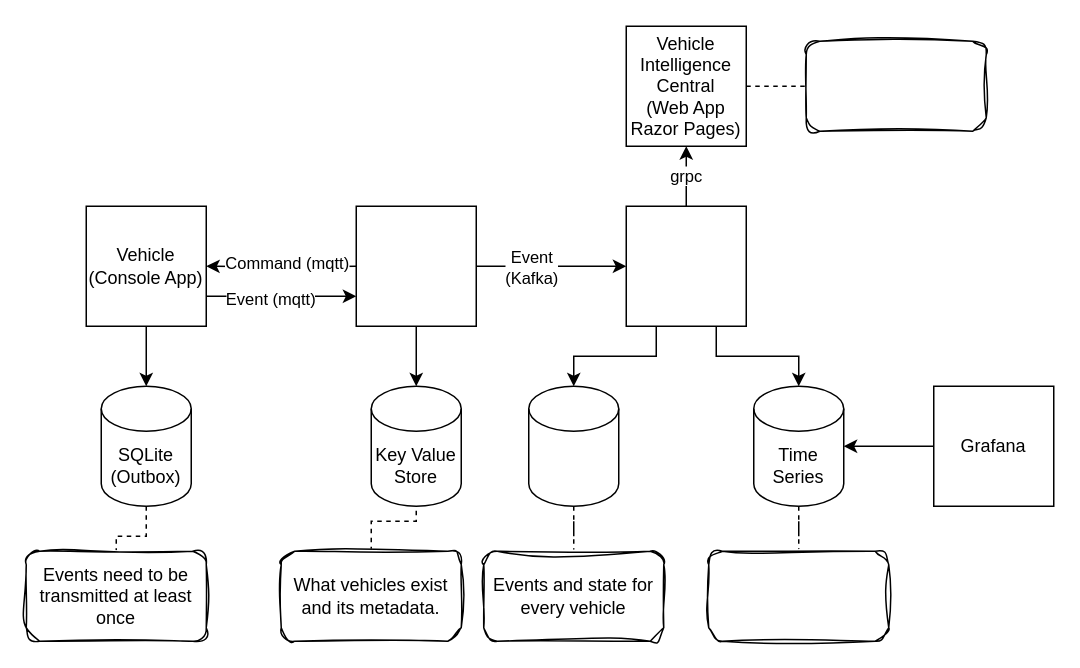
This 1080x668 diagram has some shape labels left out. The shapes that lost their labels are listed below. From the top down, each one's box as (x1, y1, x2, y2) in pixels, then its label:
(805, 40, 986, 131): Simple server side rendered event visualization
(355, 205, 476, 326): Vehicle Control (Win Forms App)
(625, 205, 746, 326): Vehicle Data Collector (Web App)
(527, 385, 619, 506): Document DB
(707, 550, 889, 641): Events per type (inkl value) over time
